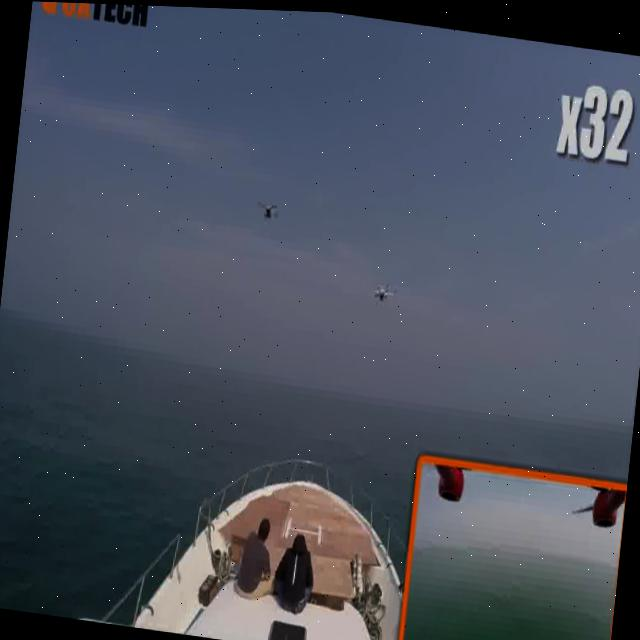drone: (251, 192, 286, 231), (370, 271, 401, 309)
